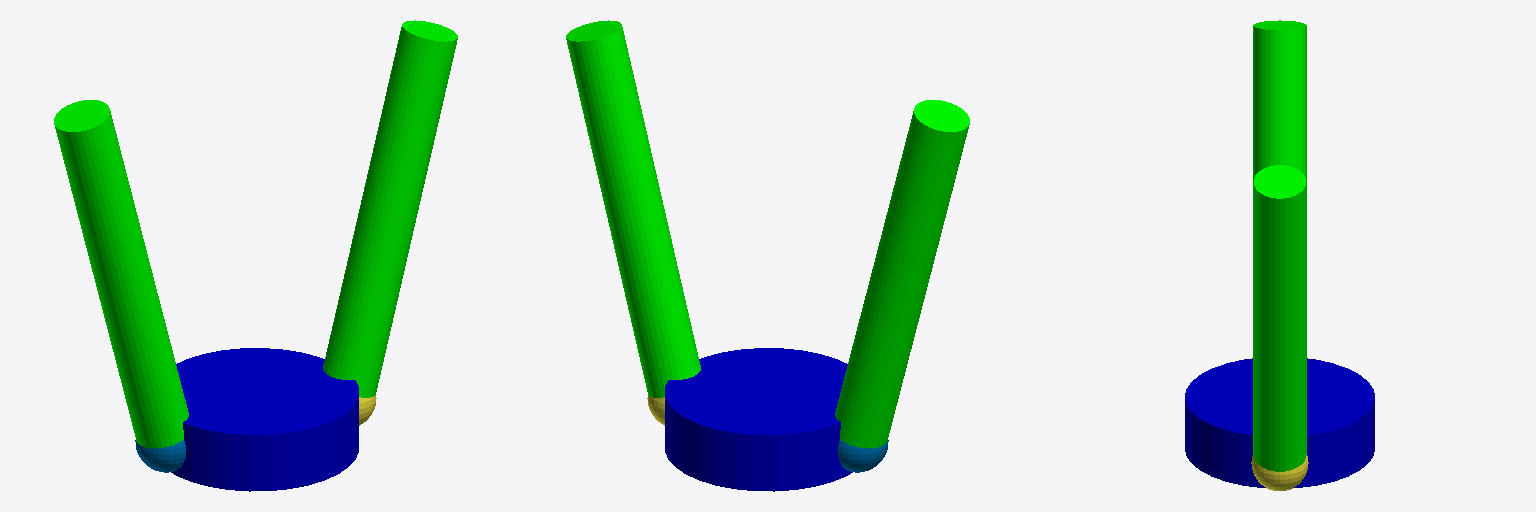
robot.urdf — gripper_2f_1j:
<?xml version='1.0' encoding='UTF-8'?>
<robot name="gripper_2f_1j">
  <link name="palm">
    <inertial>
      <origin xyz="0.0 0.0 0.0" rpy="0.0 -0.0 0.0"/>
      <mass value="1.0"/>
      <inertia ixx="1.0" ixy="0.0" ixz="0.0" iyy="1.0" iyz="0.0" izz="1.0"/>
    </inertial>
    <visual>
      <geometry>
        <cylinder radius="0.05" length="0.03"/>
      </geometry>
      <material name="blue"/>
      <origin xyz="0.0 0.0 0.0" rpy="0.0 -0.0 0.0"/>
    </visual>
    <collision>
      <geometry>
        <cylinder radius="0.05" length="0.03"/>
      </geometry>
      <origin xyz="0.0 0.0 0.0" rpy="0.0 0.0 0.0"/>
    </collision>
  </link>
  <link name="f11">
    <inertial>
      <origin xyz="0.0 0.0 0.0" rpy="0.0 -0.0 0.0"/>
      <mass value="1.0"/>
      <inertia ixx="1.0" ixy="0.0" ixz="0.0" iyy="1.0" iyz="0.0" izz="1.0"/>
    </inertial>
    <visual>
      <geometry>
        <cylinder radius="0.013931744000062495" length="0.19058110851843826"/>
      </geometry>
      <material name="green"/>
      <origin xyz="0.0 0.0 0.09529055425921913" rpy="0.0 -0.0 0.0"/>
    </visual>
    <collision>
      <geometry>
        <cylinder radius="0.013931744000062495" length="0.19058110851843826"/>
      </geometry>
      <origin xyz="0.0 0.0 0.05" rpy="0.0 0.0 0.0"/>
    </collision>
  </link>
  <link name="f21">
    <inertial>
      <origin xyz="0.0 0.0 0.0" rpy="0.0 -0.0 0.0"/>
      <mass value="1.0"/>
      <inertia ixx="1.0" ixy="0.0" ixz="0.0" iyy="1.0" iyz="0.0" izz="1.0"/>
    </inertial>
    <visual>
      <geometry>
        <cylinder radius="0.013931744000062495" length="0.19058110851843826"/>
      </geometry>
      <material name="green"/>
      <origin xyz="0.0 0.0 0.09529055425921913" rpy="0.0 -0.0 0.0"/>
    </visual>
    <collision>
      <geometry>
        <cylinder radius="0.013931744000062495" length="0.19058110851843826"/>
      </geometry>
      <origin xyz="0.0 0.0 0.05" rpy="0.0 0.0 0.0"/>
    </collision>
  </link>
  <link name="f11_base">
    <inertial>
      <origin xyz="0.0 0.0 0.0" rpy="0.0 -0.0 0.0"/>
      <mass value="1.0"/>
      <inertia ixx="1.0" ixy="0.0" ixz="0.0" iyy="1.0" iyz="0.0" izz="1.0"/>
    </inertial>
    <visual>
      <geometry>
        <sphere radius="0.015"/>
      </geometry>
      <origin xyz="0.0 0.0 0.0" rpy="0.0 -0.0 0.0"/>
    </visual>
  </link>
  <link name="f21_base">
    <inertial>
      <origin xyz="0.0 0.0 0.0" rpy="0.0 -0.0 0.0"/>
      <mass value="1.0"/>
      <inertia ixx="1.0" ixy="0.0" ixz="0.0" iyy="1.0" iyz="0.0" izz="1.0"/>
    </inertial>
    <visual>
      <geometry>
        <sphere radius="0.015"/>
      </geometry>
      <origin xyz="0.0 0.0 0.0" rpy="0.0 -0.0 0.0"/>
    </visual>
  </link>
  <joint name="f11_joint" type="revolute">
    <dynamics damping="100.0" friction="1.0"/>
    <limit effort="30.0" velocity="2.0" lower="-0.6" upper="0.25"/>
    <parent link="f11_base"/>
    <child link="f11"/>
    <axis xyz="0. 1. 0."/>
    <origin xyz="0.0 0.0 0.0" rpy="0.0 0.25 0.0"/>
  </joint>
  <joint name="f21_joint" type="revolute">
    <dynamics damping="100.0" friction="1.0"/>
    <limit effort="30.0" velocity="2.0" lower="-0.6" upper="0.25"/>
    <parent link="f21_base"/>
    <child link="f21"/>
    <axis xyz=" 0. -1.  0."/>
    <origin xyz="0.0 0.0 0.0" rpy="0.0 -0.25 0.0"/>
  </joint>
  <joint name="f11_base_joint" type="fixed">
    <parent link="palm"/>
    <child link="f11_base"/>
    <axis xyz="1. 0. 0."/>
    <origin xyz="0.05 0.0 0.0" rpy="0.0 0.0 0.0"/>
  </joint>
  <joint name="f21_base_joint" type="fixed">
    <parent link="palm"/>
    <child link="f21_base"/>
    <axis xyz="1. 0. 0."/>
    <origin xyz="-0.05 -0.0 0.0" rpy="0.0 0.0 0.0"/>
  </joint>
  <material name="blue">
    <color rgba="0.  0.  0.8 1. "/>
  </material>
  <material name="green">
    <color rgba="0. 1. 0. 1."/>
  </material>
</robot>

--- Facts derived from the render (not from the file) ---
The picture shows the robot from 3 angles, left to right: view 1: azimuth 30°, elevation 25°; view 2: azimuth 150°, elevation 25°; view 3: azimuth 270°, elevation 25°; orthographic projection.
Model gripper_2f_1j with 5 links and 4 joints (2 revolute, 2 fixed), rooted at palm, posed all joints at 0.
Links seen in each view (by area): view 1: palm, f11, f21, f21_base; view 2: palm, f11, f21, f21_base; view 3: f11, palm, f21, f11_base.
Link boxes in pixels (x1=…): palm: x1=171, y1=348, x2=358, y2=491; f11: x1=323, y1=20, x2=457, y2=397; f21: x1=54, y1=100, x2=188, y2=448; f21_base: x1=135, y1=440, x2=185, y2=472; palm: x1=665, y1=348, x2=852, y2=491; f11: x1=566, y1=20, x2=700, y2=397; f21: x1=835, y1=100, x2=969, y2=448; f21_base: x1=838, y1=440, x2=888, y2=472; f11: x1=1253, y1=165, x2=1306, y2=471; palm: x1=1185, y1=358, x2=1374, y2=487; f21: x1=1253, y1=20, x2=1306, y2=181; f11_base: x1=1251, y1=455, x2=1308, y2=490.
Bounding box of the posed robot: 0.2213 × 0.1 × 0.2031 m (x, y, z).
Geometry: primitives only (box / cylinder / sphere), no mesh files.